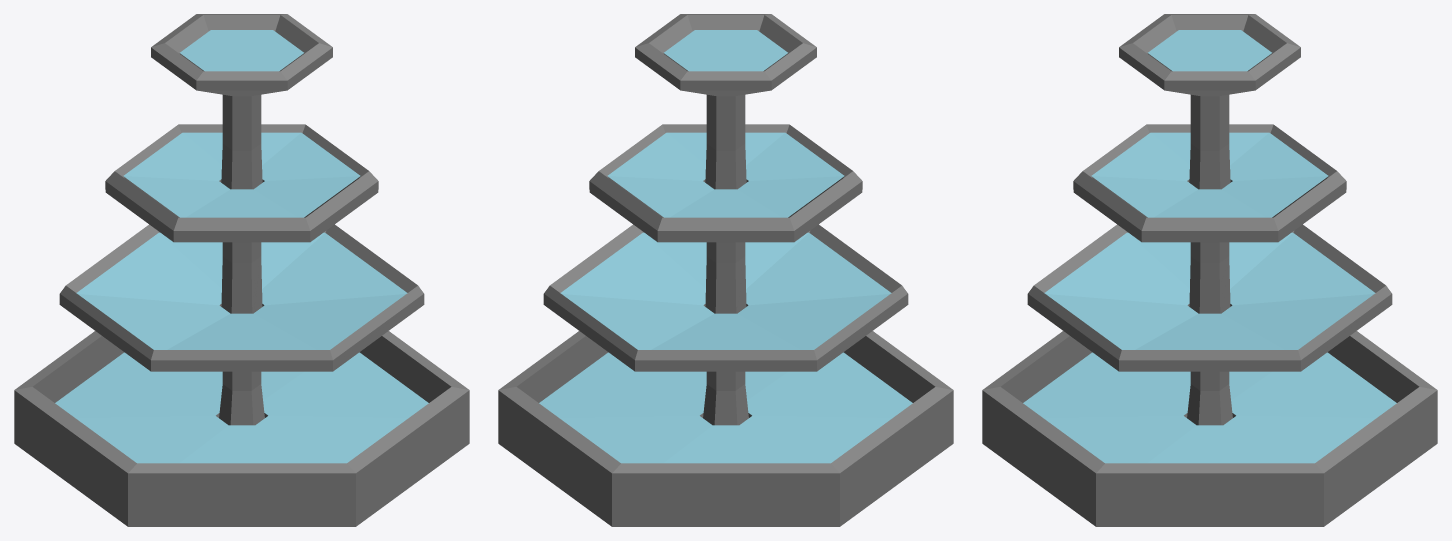
The model's file is Fountain.fbx.
The picture shows the model from 3 angles, left to right: view 1: azimuth 30°, elevation 25°; view 2: azimuth 150°, elevation 25°; view 3: azimuth 270°, elevation 25°; orthographic projection.
Visible parts, largest first — view 1: Circle; view 2: Circle; view 3: Circle.
Boxes of the visible parts, box(x1,y1,x2,y2) form: Circle: box(14, 14, 469, 526); Circle: box(498, 14, 953, 526); Circle: box(982, 14, 1437, 526).
Size of the model in its own units: 346 by 388 by 400.
